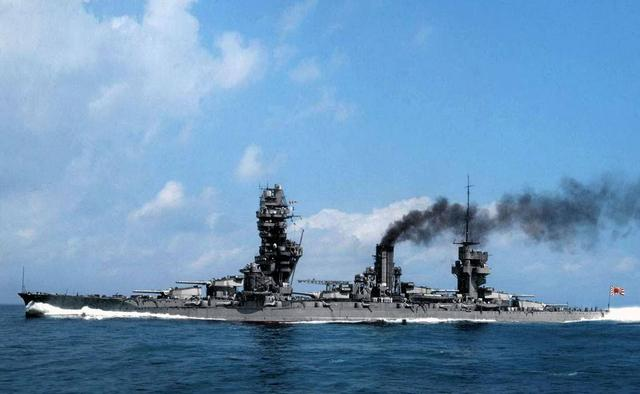warship: (13, 166, 617, 320)
